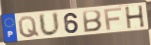6: (63, 12, 81, 35)
B: (82, 9, 103, 34)
F: (103, 7, 123, 31)
H: (124, 5, 146, 30)
Q: (17, 15, 41, 39)
U: (37, 11, 62, 38)
